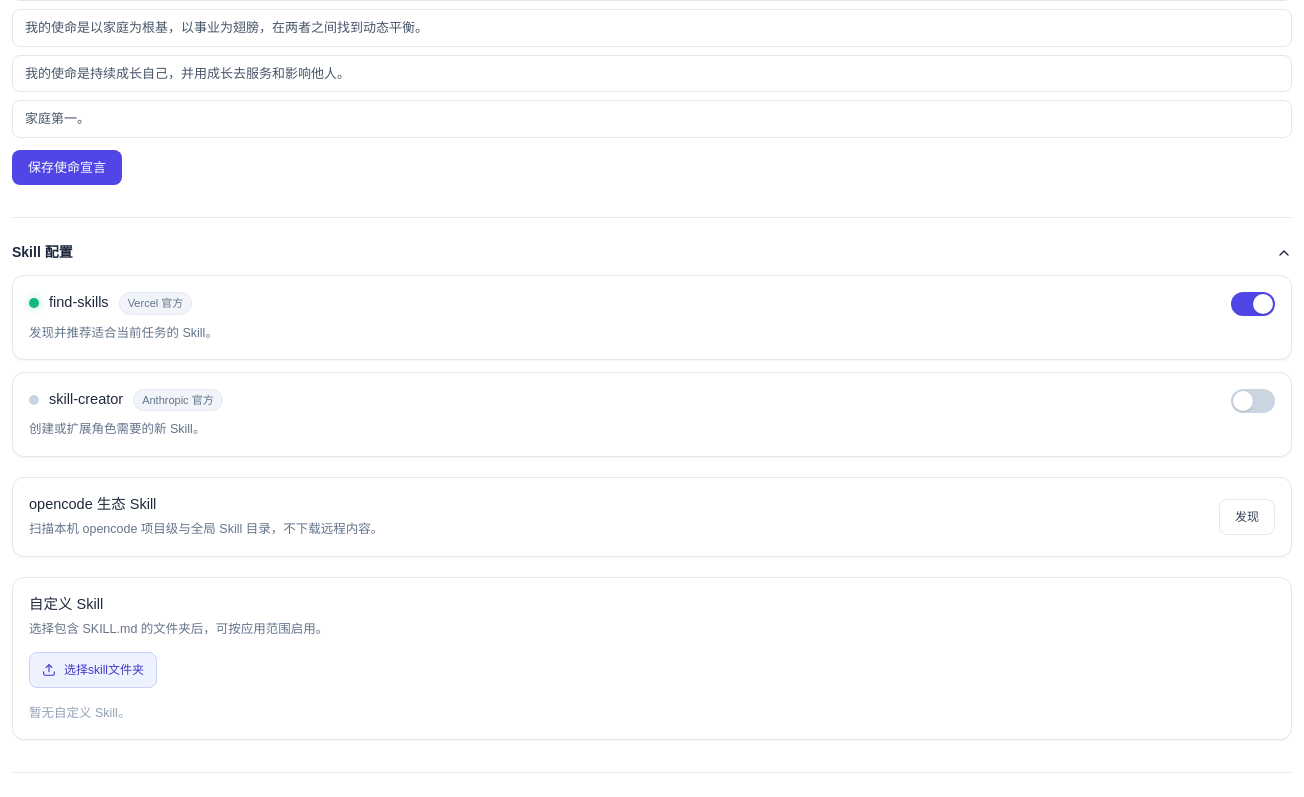
it: ButlerSettingsContent › 展示并持久化管家 Skill 配置
(page scrolled)
Check: the text "Skill 配置" is shown, box [12,242,73,263]
Check: the switch named "find-skills" in the row of "Vercel 官方" is checked, box [1231,292,1275,316]
Click the switch named "skill-creator" in the row of "Anthropic 官方" at (1253, 401), box [1231,389,1275,413]
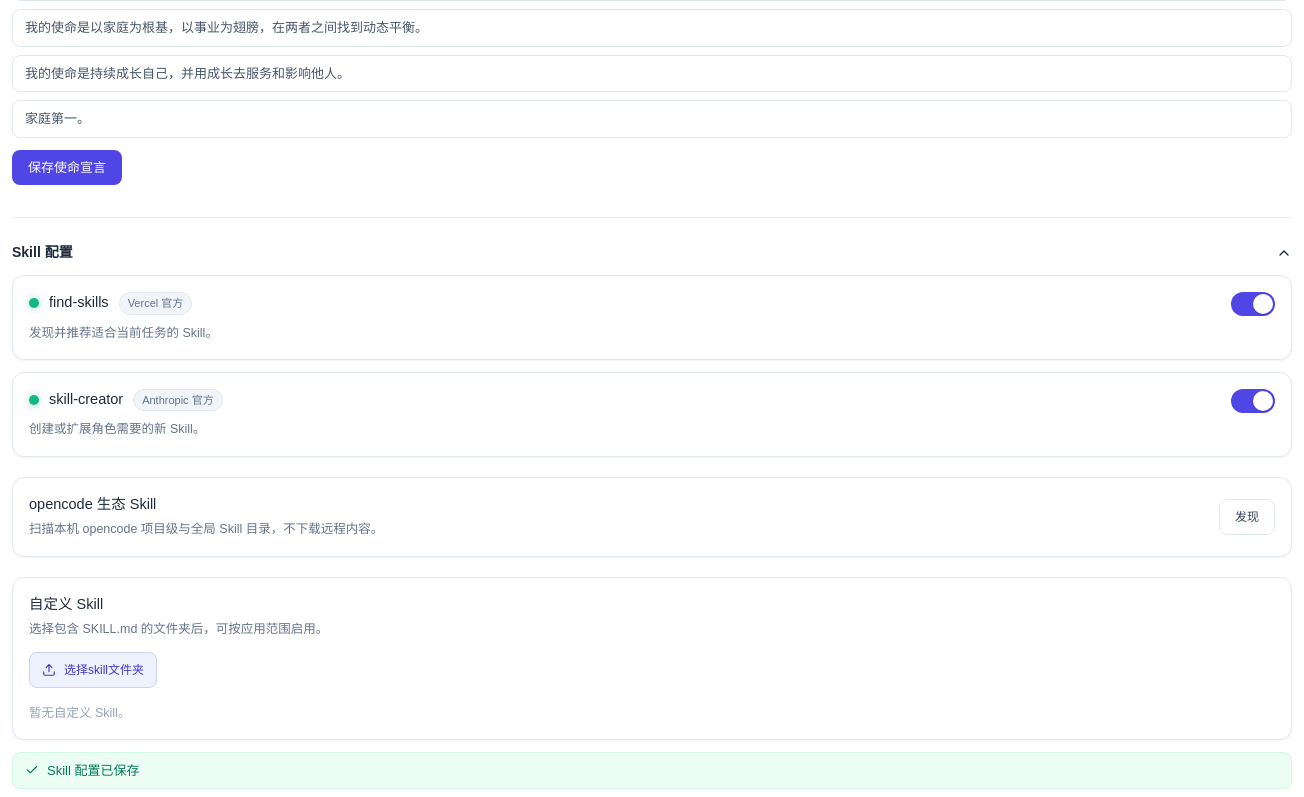
Check: the text "Skill 配置已保存" is shown, box [12,752,1292,789]
